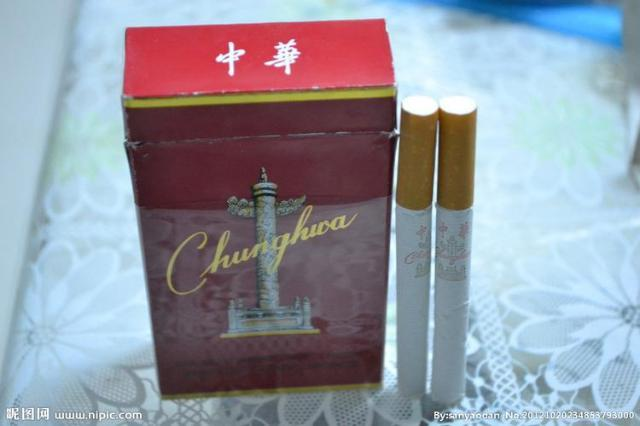Smoking: (430, 97, 478, 404), (394, 95, 438, 397)
